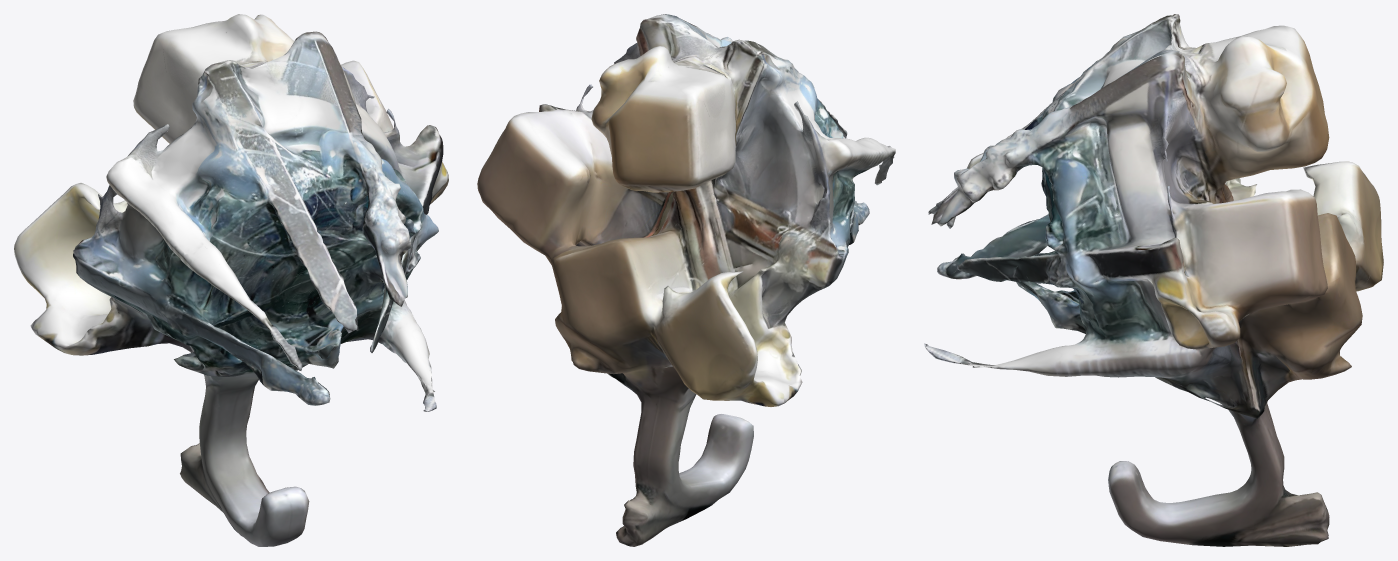
3 views of the same model, side by side, from view 1: azimuth 30°, elevation 25°; view 2: azimuth 150°, elevation 25°; view 3: azimuth 270°, elevation 25° (orthographic). The views are drawn at different scales.
Visible parts, largest first — view 1: P5; view 2: P5; view 3: P5.
Boxes of the visible parts, x1,y1,x2,y2 form: P5: (14, 14, 448, 546); P5: (477, 14, 895, 546); P5: (924, 14, 1383, 546).
Bounding box in the file's own units: 0.3648 × 0.4672 × 0.3789.
Materials: 1 (1 with a texture image).
